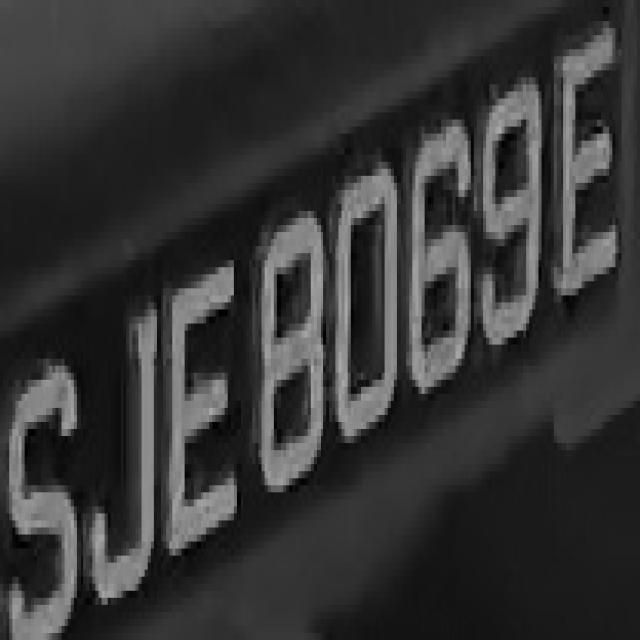0: (323, 148, 400, 443)
6: (403, 112, 474, 415)
8: (256, 190, 330, 527)
9: (477, 56, 541, 380)
E: (166, 225, 243, 570), (548, 21, 624, 317)
J: (86, 295, 160, 605)
